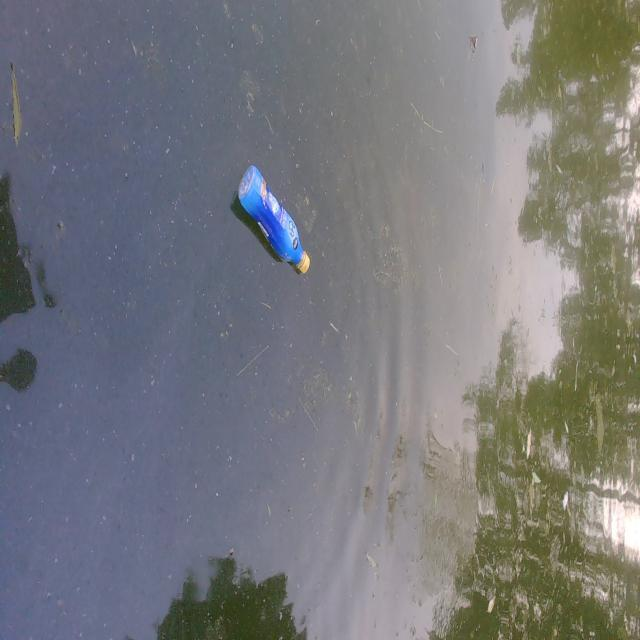garbage: (237, 163, 311, 275)
